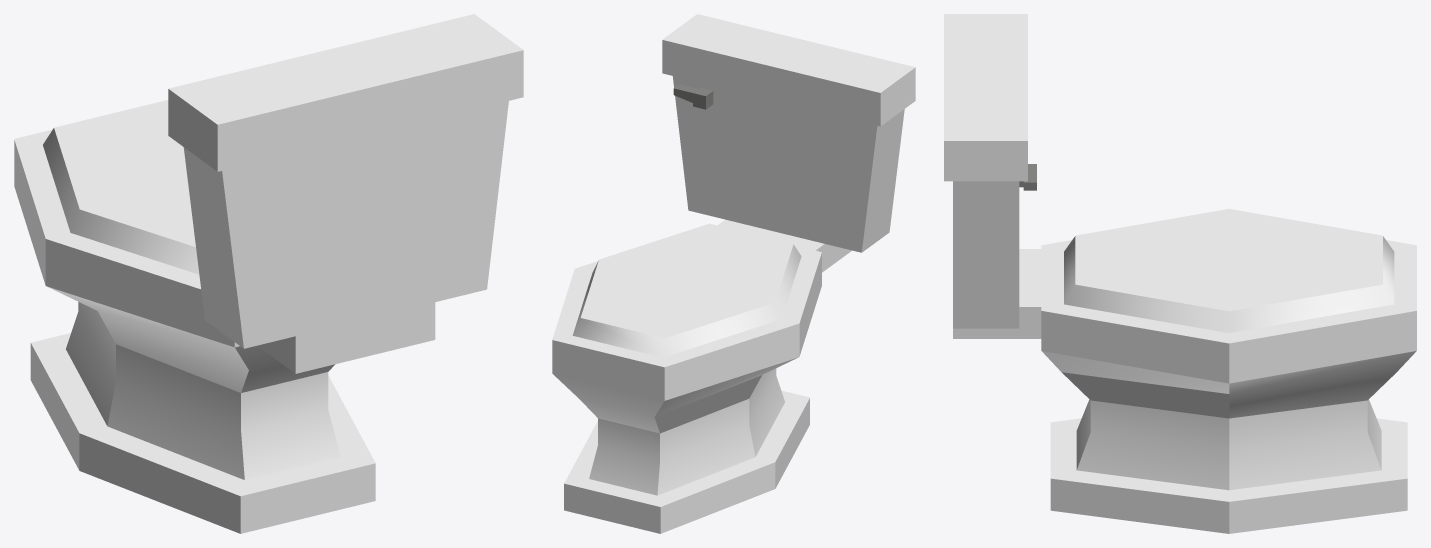
File: Furniture_toilet.fbx
3 renders of one model, left to right at view 1: azimuth 30°, elevation 25°; view 2: azimuth 150°, elevation 25°; view 3: azimuth 270°, elevation 25°, orthographic. The views are drawn at different scales.
Parts seen in each view (by area): view 1: cover; view 2: cover; view 3: cover.
Boxes of the visible parts, <box> form: cover: <box>14,14,523,533</box>; cover: <box>552,14,915,533</box>; cover: <box>944,14,1416,533</box>.
Bounding box in the file's own units: 313 × 451 × 477.
